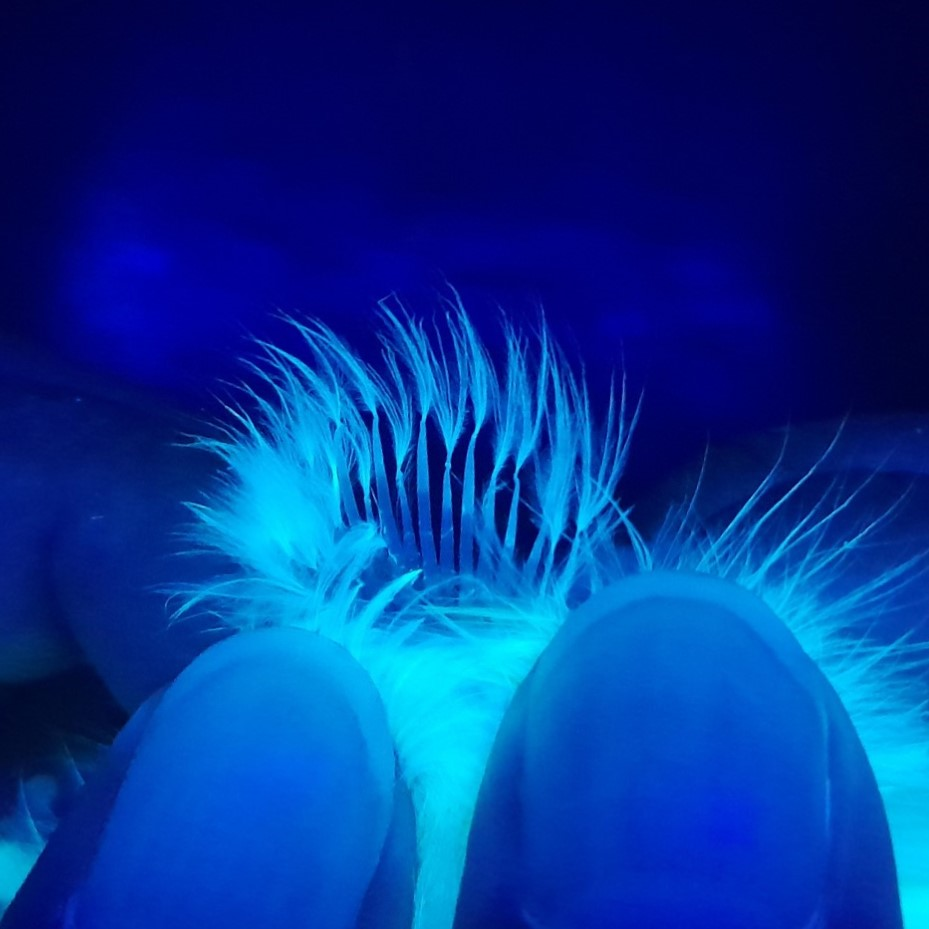male: (312, 377, 611, 652)
